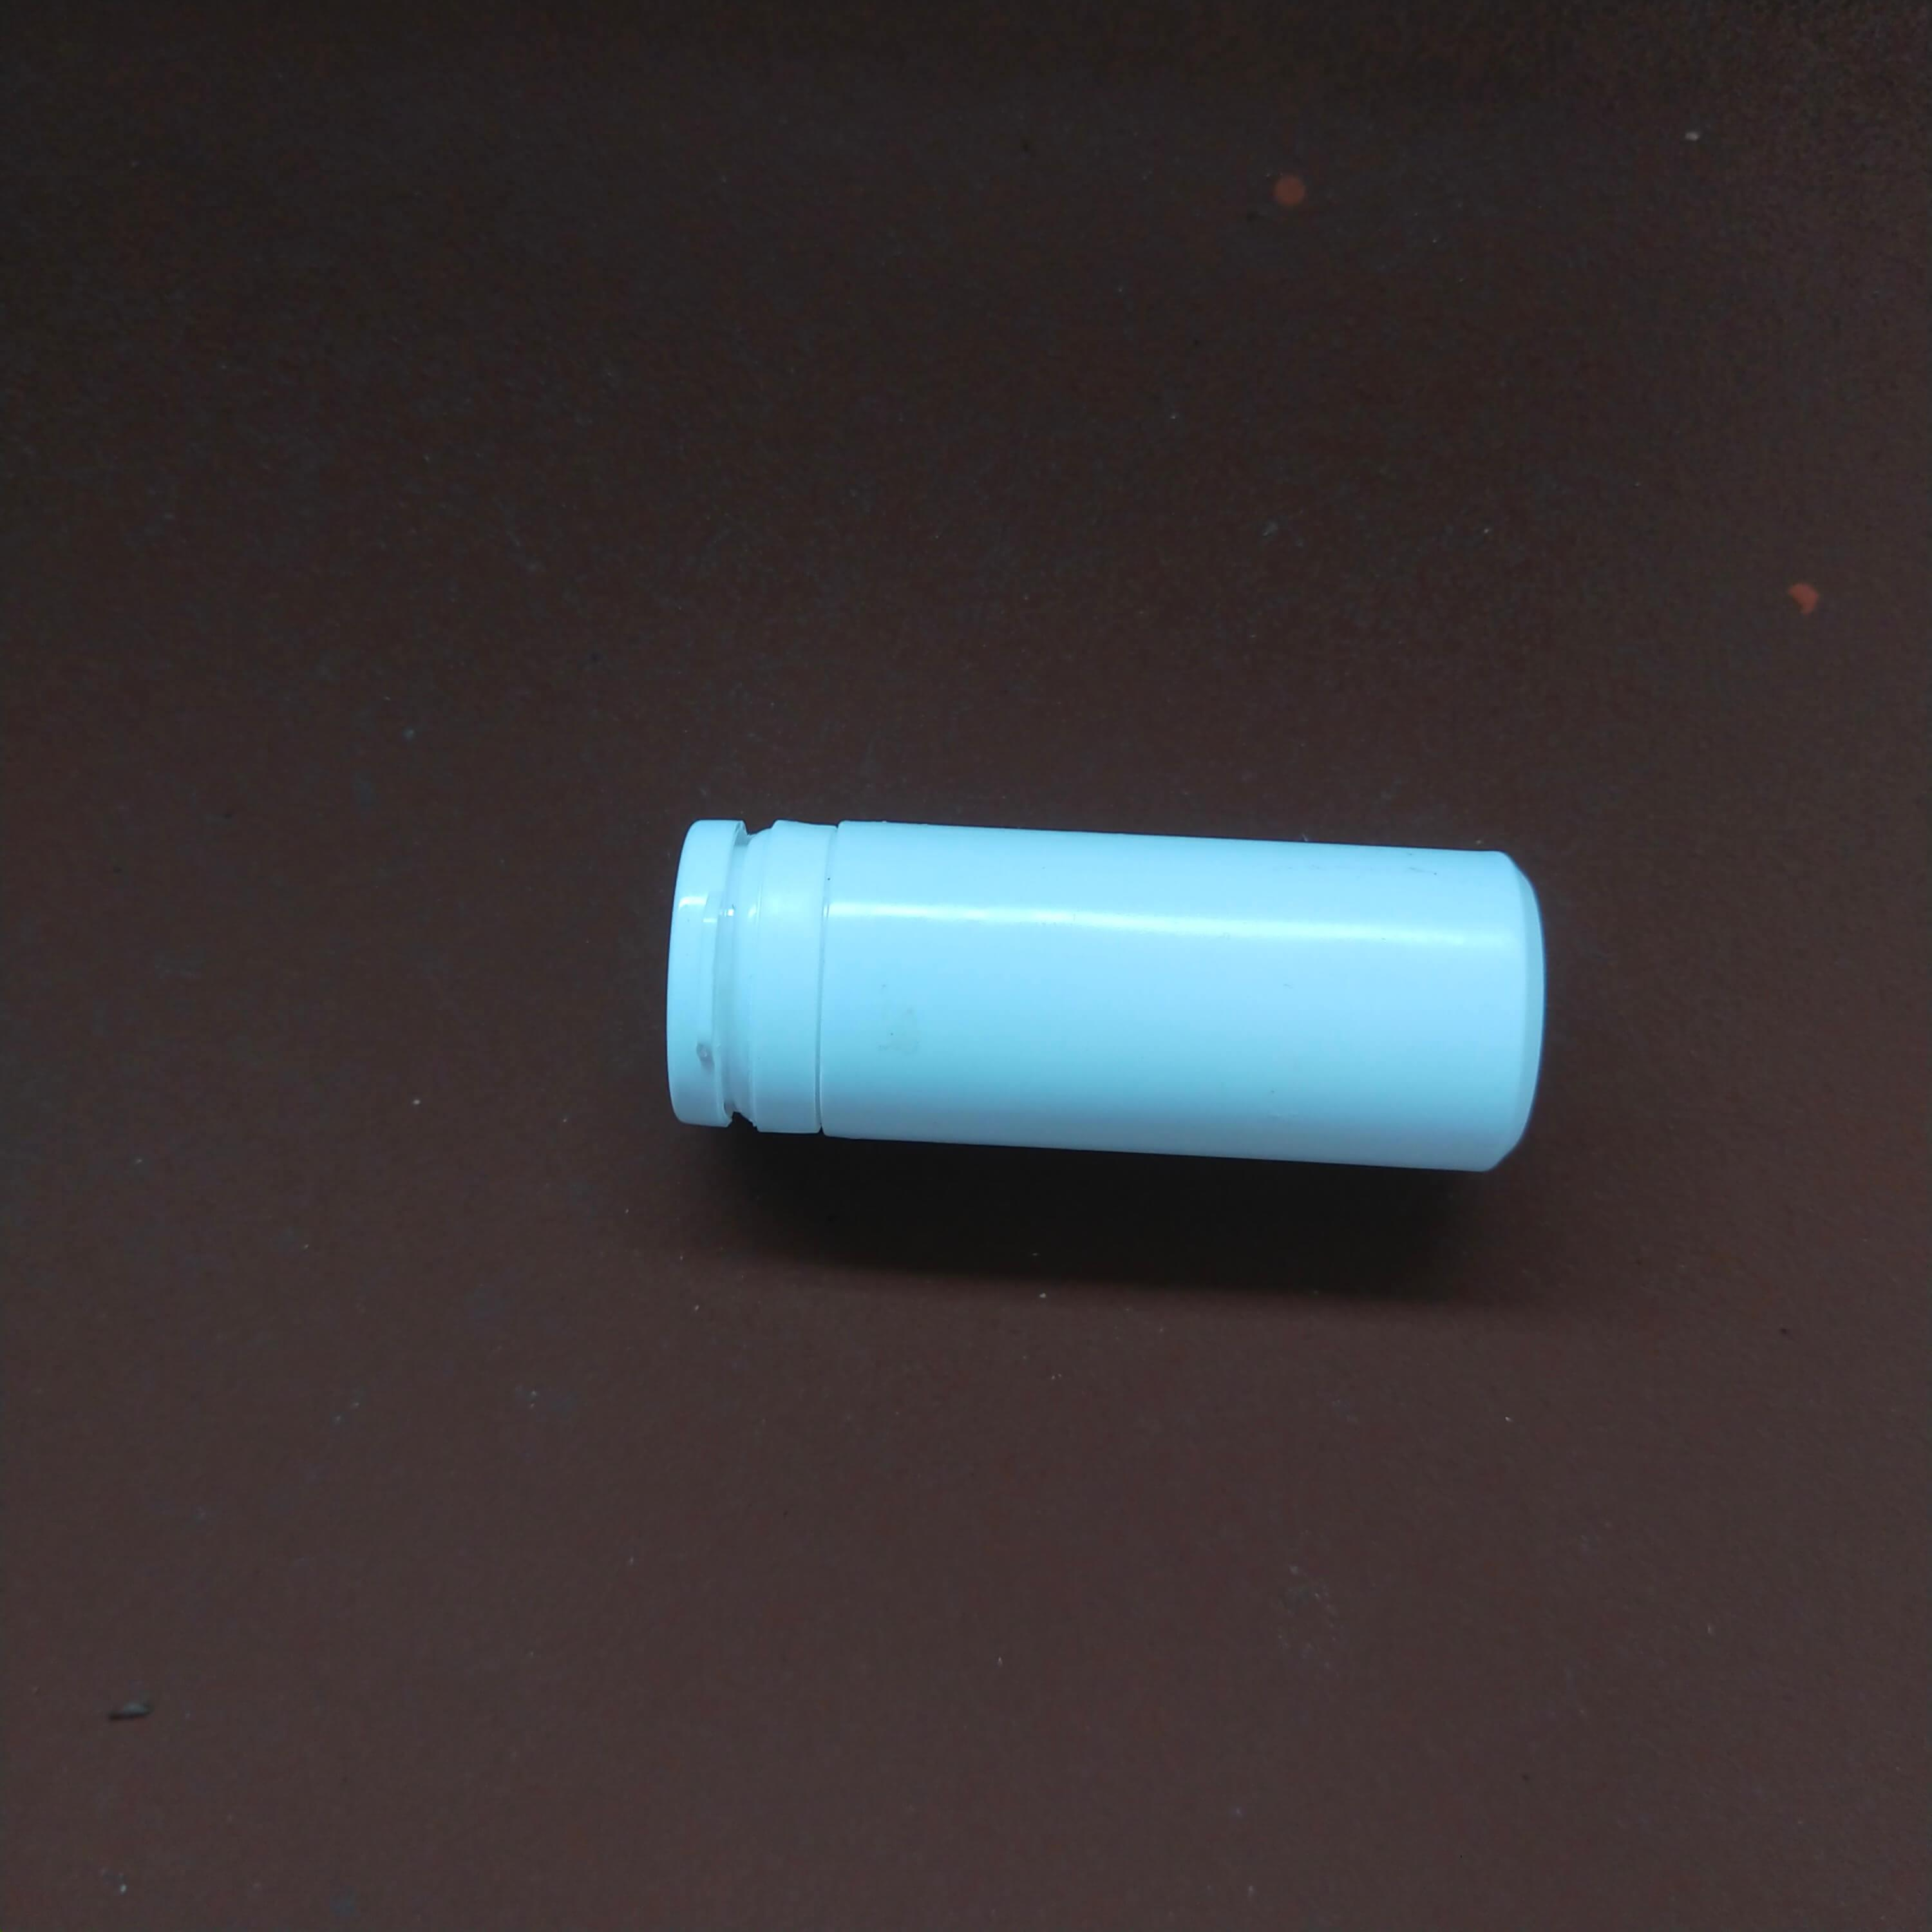plastic box: (623, 764, 1575, 1251)
